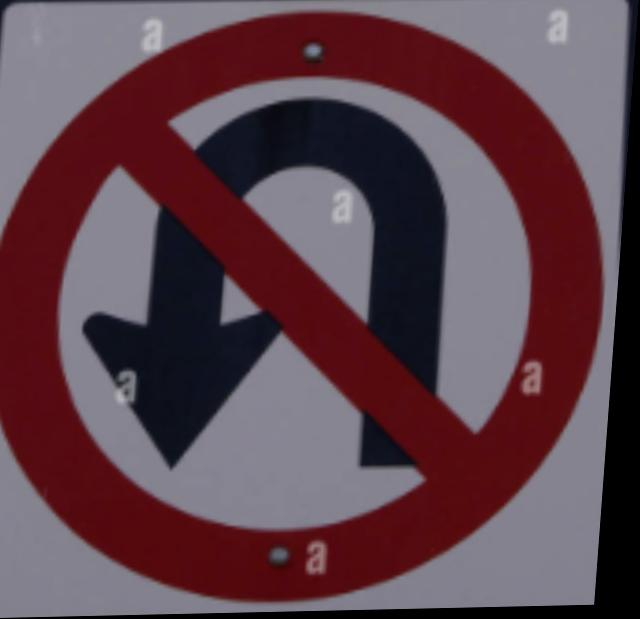not_u_turn_left: (0, 8, 622, 605)
